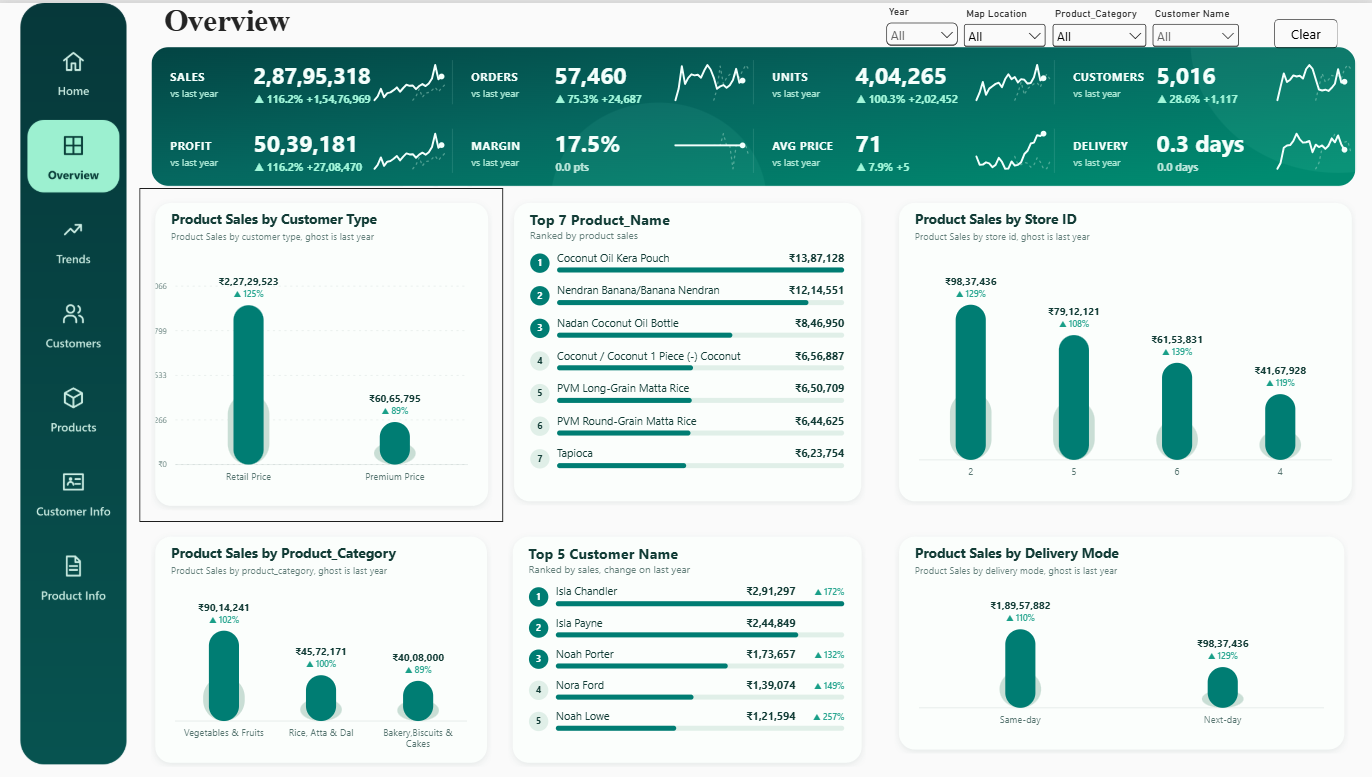

The page's visual inventory and layout, read from the dashboard file:
{"tool":"powerbi","page":{"name":"Customers","canvas":[1920,1080],"ordinal":3},"visuals":[{"type":"image","box":[9.2,0,189.6,1038],"z":0},{"type":"OverviewKpiStripA723B41FF5BD4542995D55338B31893F","fields":{"period":["Date.Month Start"],"sales":["Order_Items.Product Sales"],"salesPY":["Order_Items.Product Sales LY"],"orders":["Orders.Total Orders"],"ordersPY":["Orders.Total Orders LY"],"units":["Order_Items.Total Units"],"unitsPY":["Order_Items.Total Units LY"],"customers":["Orders.Total Customers"],"customersPY":["Orders.Total Customers LY"],"profit":["Order_Items.Estimated Gross Profit"],"profitPY":["Orders.Estimated Gross Profit LY"],"margin":["Order_Items.Estimated Profit Margin"],"marginPY":["Bengaluru Store Zones.Estimated Profit Margin LY"],"avgPrice":["Bengaluru Store Zones.Average Selling Price"],"avgPricePY":["Orders.Average Selling Price LY"],"delivery":["Bengaluru Store Zones.Average Scheduled Delivery Days"]},"box":[182,42,1738,236],"z":1000},{"type":"RankedHorizontalBarsD391A8F624BC","fields":{"value":["Order_Items.Product Sales"],"category":["Order_Items.Customer Name"]},"box":[200.6,305.5,484.1,774.9],"z":2000},{"type":"RibbonChartB746E203A95C","fields":{"period":["Date.Month Start"],"segment":["Order_Items.Customer Type"],"value":["Bengaluru Store Zones.Orders by Customer Type"]},"box":[1187.1,305.5,708.6,301.8],"z":3000},{"type":"SankeyDiagramF672A930D148","fields":{"source":["Order_Items.Customer Type"],"destination":["Orders.Delivery Mode"],"value":["Order_Items.Product Sales"]},"box":[1187.1,631.3,732.5,449.1],"z":4000},{"type":"waterfallChart","fields":{"Category":["Order_Items.Customer Type"],"Y":["Bengaluru Store Zones.Sales YoY Change Amount"]},"box":[684.7,305.5,502.5,301.8],"z":5000},{"type":"RoundedColumnChartA72B913CE840","fields":{"value":["Order_Items.Product Sales"],"lastYear":["Order_Items.Product_Sales LY"],"category":["Order_Items.Customer Type"]},"box":[684.7,631.3,502.5,449.1],"z":6000},{"type":"slicer","fields":{"Values":["Order_Items.Year"]},"box":[1157.8,0,109,63.8],"z":7000},{"type":"slicer","fields":{"Values":["Bengaluru Store Zones.Map Location"]},"box":[1374.9,0,123.4,61.7],"z":8000},{"type":"slicer","fields":{"Values":["Order_Items.Customer Name"]},"box":[1498.2,1.8,129.6,61.7],"z":9000},{"type":"slicer","fields":{"Values":["Order_Items.Product_Category"]},"box":[1627,1.8,139.8,86.4],"z":10000},{"type":"textbox","box":[198.8,1.8,300,60.7],"z":11000},{"type":"shape","box":[68.1,160.1,71.8,64.4],"z":12000},{"type":"shape","box":[68.1,272.4,71.8,66.3],"z":13000},{"type":"shape","box":[68.1,646,71.8,29.4],"z":14000},{"type":"shape","box":[68.1,519,68.1,55.2],"z":15000},{"type":"shape","box":[73.6,732.5,60.7,60.7],"z":16000},{"type":"shape","box":[71.8,58.9,69.9,55.2],"z":17000},{"type":"actionButton","box":[1809.2,16.6,88.3,40.5],"z":18000},{"type":"slicer","fields":{"Values":["Order_Items.Customer Type"]},"box":[1266.8,0,109,63.8],"z":19000}]}

Visuals, with their boxes on the page's 1920x1080 design canvas (x1, y1, x2, y2). These are canvas units, not pixel positions in the 1372x777 screenshot, which may show the page scaled, cropped or inside an application window:
image: locate(9, 0, 199, 1038)
OverviewKpiStripA723B41FF5BD4542995D55338B31893F - Date.Month Start x Order_Items.Product Sales: locate(182, 42, 1920, 278)
RankedHorizontalBarsD391A8F624BC - Order_Items.Product Sales x Order_Items.Customer Name: locate(201, 306, 685, 1080)
RibbonChartB746E203A95C - Date.Month Start x Order_Items.Customer Type: locate(1187, 306, 1896, 607)
SankeyDiagramF672A930D148 - Order_Items.Customer Type x Orders.Delivery Mode: locate(1187, 631, 1920, 1080)
waterfallChart - Order_Items.Customer Type x Bengaluru Store Zones.Sales YoY Change Amount: locate(685, 306, 1187, 607)
RoundedColumnChartA72B913CE840 - Order_Items.Product Sales x Order_Items.Product_Sales LY: locate(685, 631, 1187, 1080)
slicer - Order_Items.Year: locate(1158, 0, 1267, 64)
slicer - Bengaluru Store Zones.Map Location: locate(1375, 0, 1498, 62)
slicer - Order_Items.Customer Name: locate(1498, 2, 1628, 64)
slicer - Order_Items.Product_Category: locate(1627, 2, 1767, 88)
textbox: locate(199, 2, 499, 62)
shape: locate(68, 160, 140, 224)
shape: locate(68, 272, 140, 339)
shape: locate(68, 646, 140, 675)
shape: locate(68, 519, 136, 574)
shape: locate(74, 732, 134, 793)
shape: locate(72, 59, 142, 114)
actionButton: locate(1809, 17, 1898, 57)
slicer - Order_Items.Customer Type: locate(1267, 0, 1376, 64)
